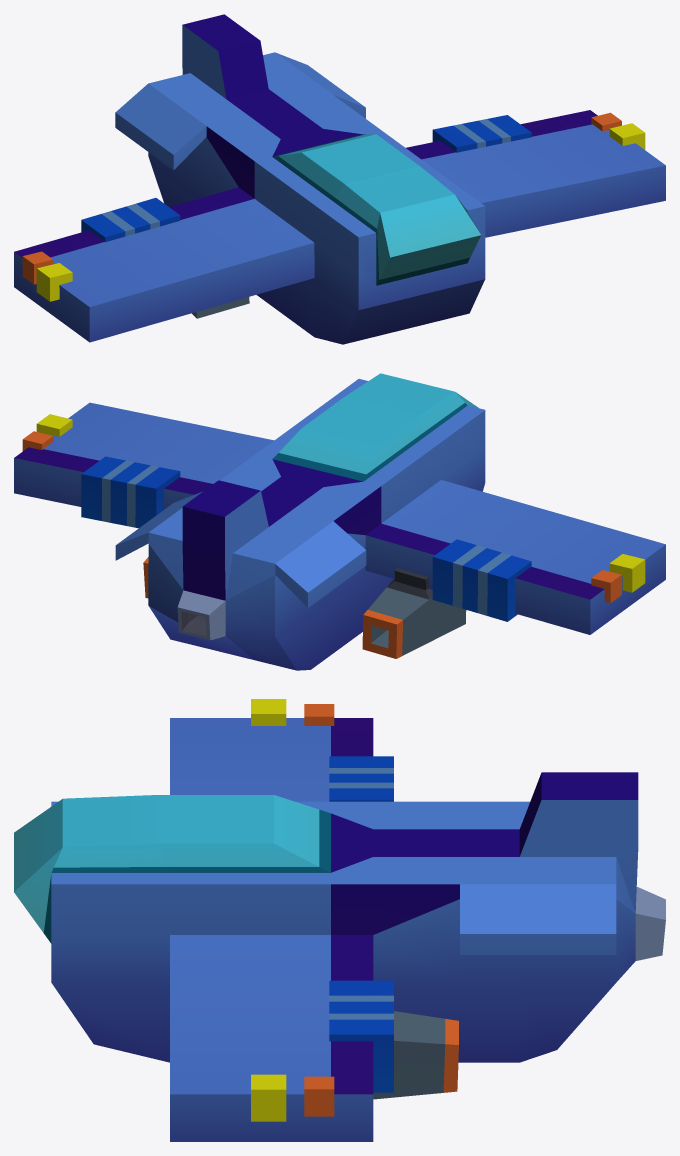
The model's file is синий самолет.fbx.
3 renders of one model, top to bottom at view 1: azimuth 30°, elevation 25°; view 2: azimuth 150°, elevation 25°; view 3: azimuth 270°, elevation 25°, orthographic. The views are drawn at different scales.
Visible parts, largest first — view 1: Cube; view 2: Cube; view 3: Cube.
Part boxes in pixels (x1=…): Cube: x1=14, y1=14, x2=665, y2=344; Cube: x1=14, y1=373, x2=665, y2=670; Cube: x1=14, y1=699, x2=665, y2=1141.
Bounding box in the file's own units: 940 × 264 × 664.
